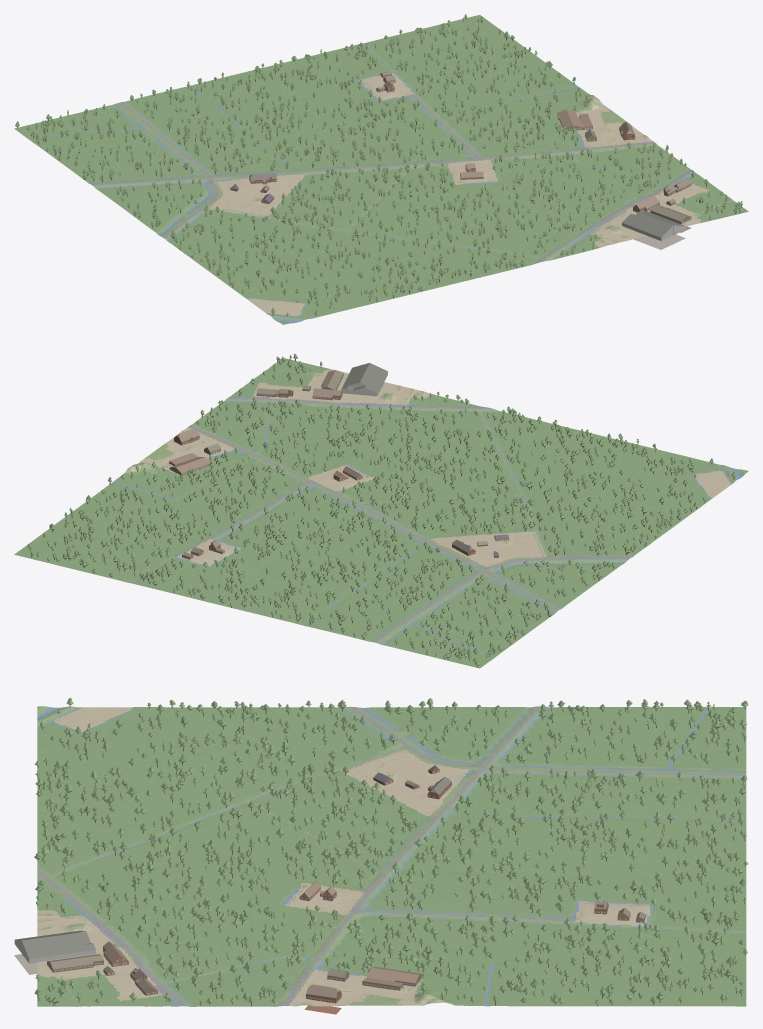
The model's file is bosven-veghel_x330_y811.glb.
The picture shows the model from 3 angles, top to bottom: view 1: azimuth 30°, elevation 25°; view 2: azimuth 150°, elevation 25°; view 3: azimuth 270°, elevation 25°; orthographic projection. The views are drawn at different scales.
Parts seen in each view (by area): view 1: class:green, class:tree, class:grass, class:sand, class:trunk, class:water, class:roof, class:road, class:wall; view 2: class:green, class:tree, class:grass, class:sand, class:trunk, class:water, class:roof, class:road, class:wall; view 3: class:green, class:tree, class:sand, class:grass, class:water, class:trunk, class:roof, class:road, class:wall, class:trim.
Part boxes in pixels (left/top/right/bottom): class:green: left=14, top=15, right=748, bottom=324; class:tree: left=15, top=14, right=742, bottom=315; class:grass: left=27, top=43, right=733, bottom=324; class:sand: left=210, top=73, right=709, bottom=316; class:trunk: left=17, top=18, right=741, bottom=316; class:water: left=28, top=43, right=728, bottom=322; class:roof: left=231, top=71, right=691, bottom=237; class:road: left=91, top=94, right=692, bottom=263; class:wall: left=230, top=73, right=691, bottom=249; class:green: left=14, top=358, right=748, bottom=668; class:tree: left=27, top=354, right=735, bottom=665; class:grass: left=118, top=368, right=746, bottom=659; class:sand: left=125, top=369, right=731, bottom=567; class:trunk: left=29, top=359, right=734, bottom=667; class:water: left=112, top=370, right=743, bottom=658; class:roof: left=169, top=363, right=508, bottom=557; class:road: left=187, top=396, right=630, bottom=642; class:wall: left=169, top=372, right=508, bottom=559; class:green: left=37, top=706, right=746, bottom=1006; class:tree: left=34, top=697, right=748, bottom=1004; class:sand: left=37, top=707, right=649, bottom=1006; class:grass: left=37, top=706, right=746, bottom=1006; class:water: left=37, top=706, right=746, bottom=1006; class:trunk: left=37, top=705, right=745, bottom=1006; class:roof: left=15, top=765, right=645, bottom=998; class:road: left=37, top=706, right=746, bottom=1006; class:wall: left=14, top=766, right=645, bottom=1014; class:trim: left=15, top=770, right=642, bottom=1001.
Size of the model in its own units: 504 by 19.26 by 518.
